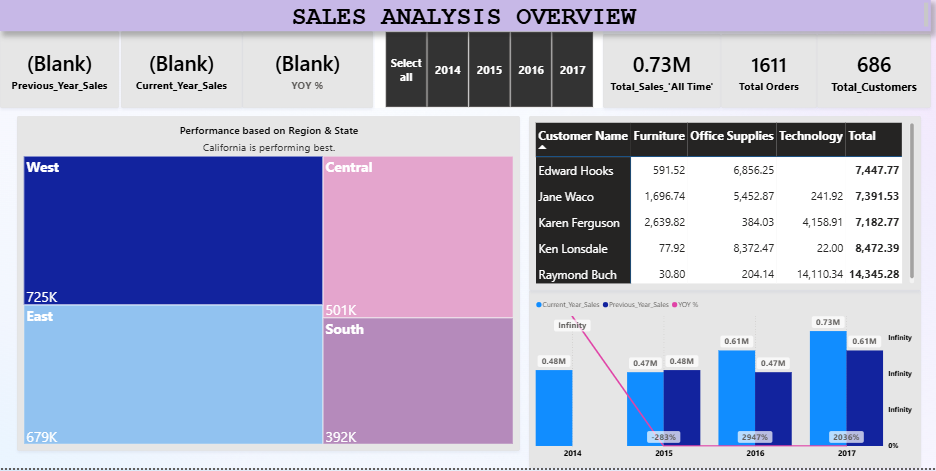

The dashboard page shown, as its layout file describes it:
{"tool":"powerbi","page":{"name":"Page 1","canvas":[1800,900],"ordinal":0},"visuals":[{"type":"slicer","title":"Please Select a Year","fields":{"Values":["Sample - Superstore (2).Order_Date.Variation.Date Hierarchy.Year"]},"box":[721.2,59.6,438.5,148.1],"z":0},{"type":"card","fields":{"Values":["Sample - Superstore (2).Total_Sales"]},"box":[1159.6,65.4,226.9,142.3],"z":1000},{"type":"lineClusteredColumnComboChart","fields":{"Y":["Sample - Superstore (2).Current_Year_Sales","Sample - Superstore (2).Previous_Year_Sales"],"Category":["Sample - Superstore (2).YEAR"],"Y2":["Sample - Superstore (2).YOY %"]},"box":[1017.3,557.7,753.8,342.3],"z":2000},{"type":"treemap","title":"Performance based on Region & State","fields":{"Group":["Sample - Superstore (2).Region","Sample - Superstore (2).State"],"Values":["Sample - Superstore (2).Sales"]},"box":[32.7,223.1,967.3,644.2],"z":3000},{"type":"actionButton","box":[0,0,100,40],"z":4000},{"type":"pivotTable","fields":{"Rows":["Sample - Superstore (2).Customer Name"],"Columns":["Sample - Superstore (2).Category"],"Values":["Sample - Superstore (2).Sales"]},"box":[1017.3,223.1,753.8,334.6],"z":5000},{"type":"card","fields":{"Values":["Sample - Superstore (2).YOY %"]},"box":[465.4,59.6,251.9,148.1],"z":6000},{"type":"card","fields":{"Values":["Sample - Superstore (2).Current_Year_Sales"]},"box":[232.7,59.6,232.7,148.1],"z":7000},{"type":"card","fields":{"Values":["Sample - Superstore (2).Previous_Year_Sales"]},"box":[0,59.6,228.8,148.1],"z":8000},{"type":"card","fields":{"Values":["Sample - Superstore (2).Total Orders"]},"box":[1386.5,65.4,184.6,142.3],"z":9000},{"type":"card","fields":{"Values":["Sample - Superstore (2).Total_Customers"]},"box":[1571.2,65.4,219.2,142.3],"z":10000},{"type":"textbox","box":[0,0,1790.4,59.6],"z":11000}]}

Visuals, with their boxes in screenshot pixels (x1, y1, x2, y2), scaled from the page's 1800x900 canvas onto the 936x471 screenshot:
"Please Select a Year" slicer: (left=375, top=31, right=603, bottom=109)
card - Sample - Superstore (2).Total_Sales: (left=603, top=34, right=721, bottom=109)
lineClusteredColumnComboChart - Sample - Superstore (2).Current_Year_Sales x Sample - Superstore (2).Previous_Year_Sales: (left=529, top=292, right=921, bottom=470)
"Performance based on Region & State" treemap: (left=17, top=117, right=520, bottom=454)
actionButton: (left=0, top=0, right=52, bottom=21)
pivotTable - Sample - Superstore (2).Customer Name x Sample - Superstore (2).Category: (left=529, top=117, right=921, bottom=292)
card - Sample - Superstore (2).YOY %: (left=242, top=31, right=373, bottom=109)
card - Sample - Superstore (2).Current_Year_Sales: (left=121, top=31, right=242, bottom=109)
card - Sample - Superstore (2).Previous_Year_Sales: (left=0, top=31, right=119, bottom=109)
card - Sample - Superstore (2).Total Orders: (left=721, top=34, right=817, bottom=109)
card - Sample - Superstore (2).Total_Customers: (left=817, top=34, right=931, bottom=109)
textbox: (left=0, top=0, right=931, bottom=31)
